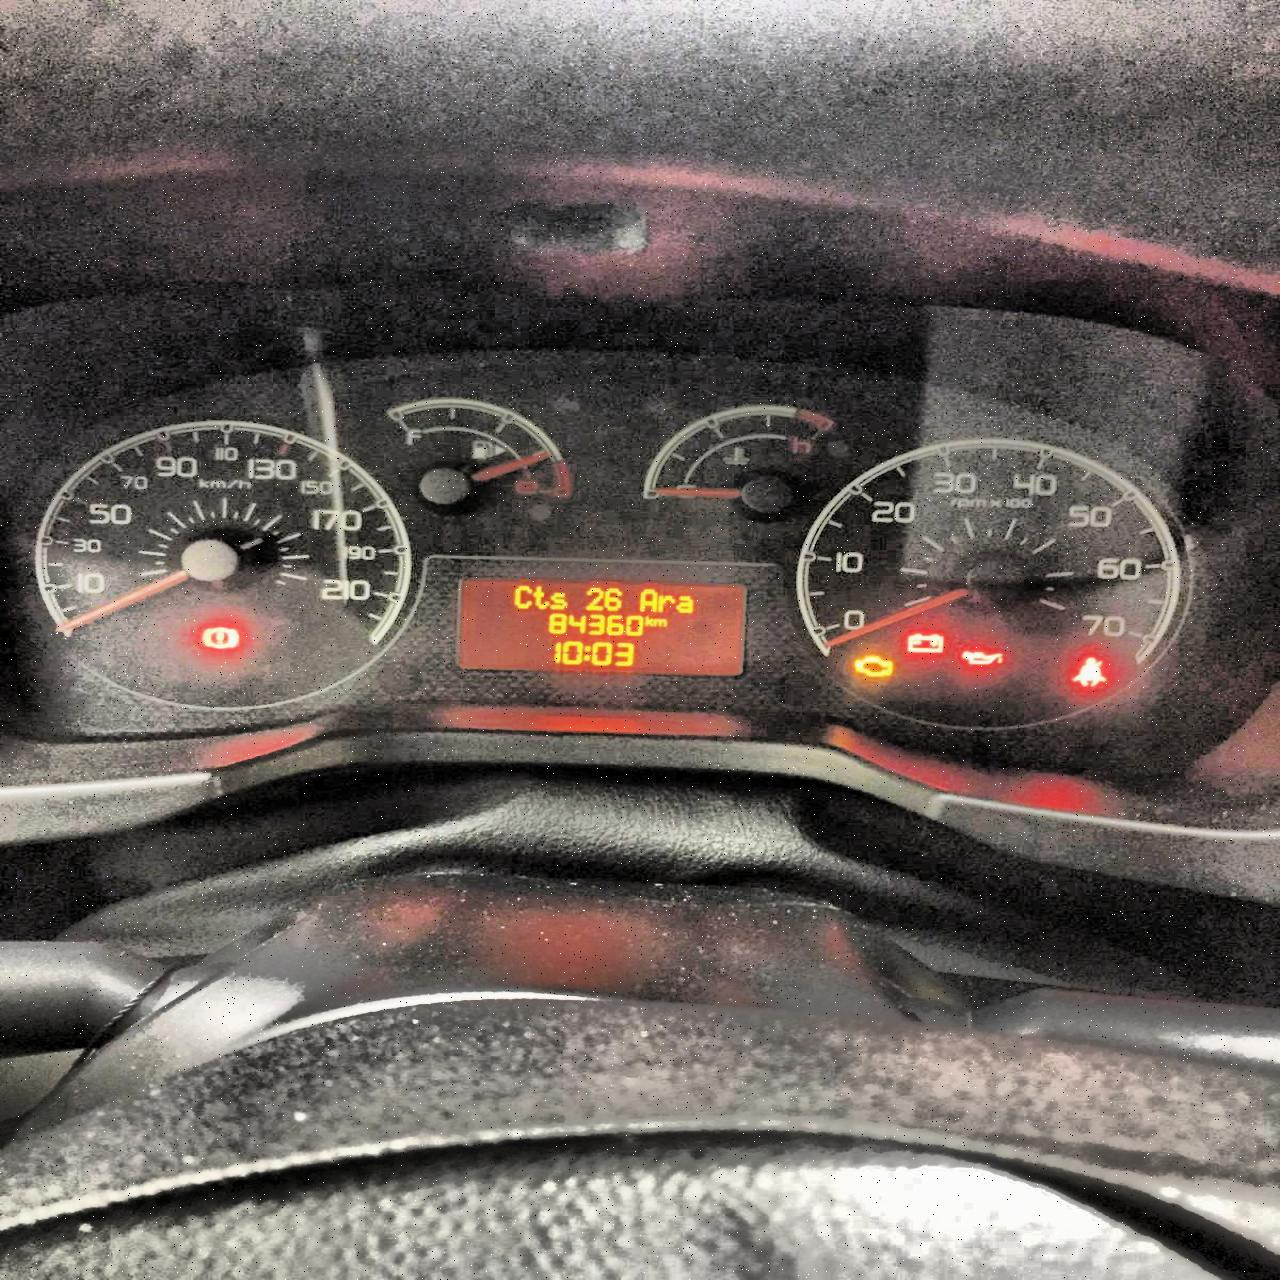0: (560, 639, 581, 665), (592, 640, 612, 666), (625, 614, 642, 635)
1: (553, 640, 560, 663)
2: (585, 585, 602, 611)
3: (614, 640, 635, 666), (586, 613, 605, 634)
4: (566, 613, 586, 633)
6: (602, 586, 622, 611), (606, 614, 624, 636)
8: (547, 612, 566, 634)
X: (531, 584, 550, 611), (513, 584, 532, 610), (639, 587, 656, 612), (550, 588, 567, 610), (676, 593, 694, 613), (658, 593, 674, 613), (583, 644, 591, 662), (653, 618, 667, 626), (645, 614, 653, 626)
odometer: (454, 579, 745, 674)
